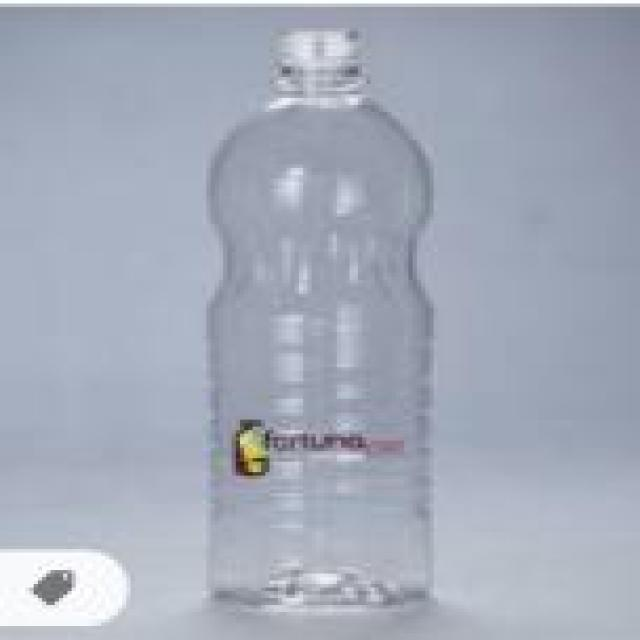bottle: (164, 17, 455, 640)
